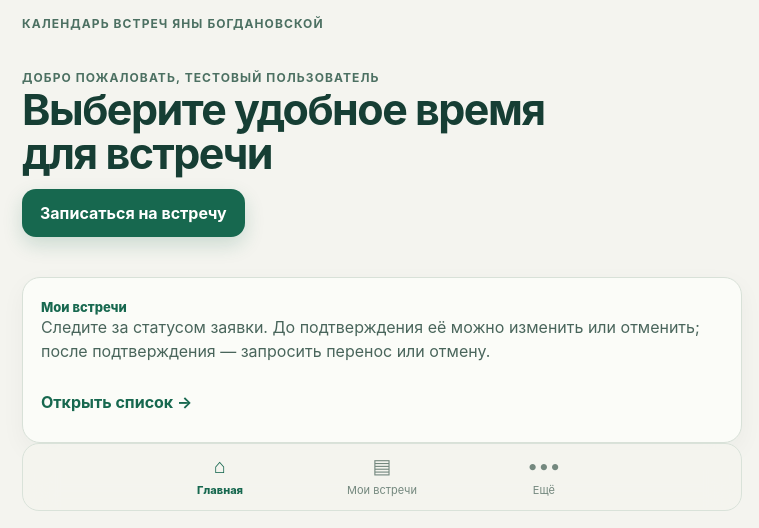
Test case: локальный UAT экранов › открывает пользовательский кабинет и пустой список только после Telegram-аутентификации
The width and height of the screenshot is (759, 528).
Check: the heading "Выберите удобное время для встречи" is shown, box [22,87,612,176]
Check: the text "Календарь встреч Яны Богдановской" is shown, box [22,16,324,31]
Click the button "▤ Мои встречи" at point(382, 476), box [341,452,423,500]
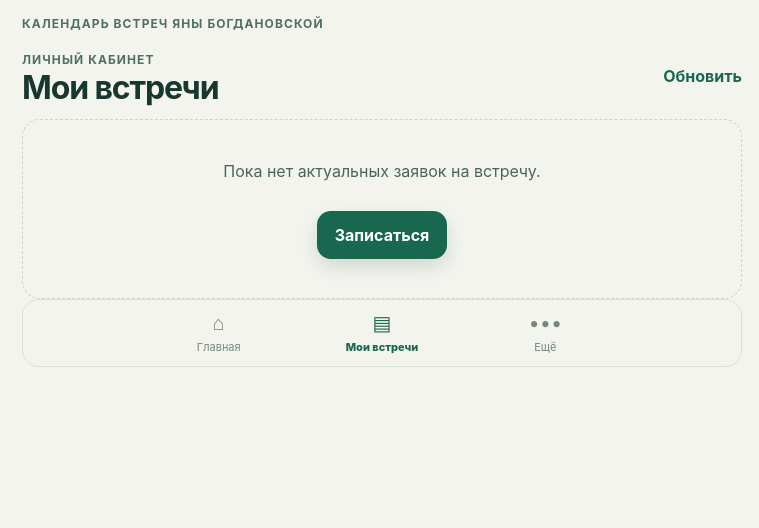
Check: the text "Пока нет актуальных заявок на встречу." is shown, box [223,160,541,184]
